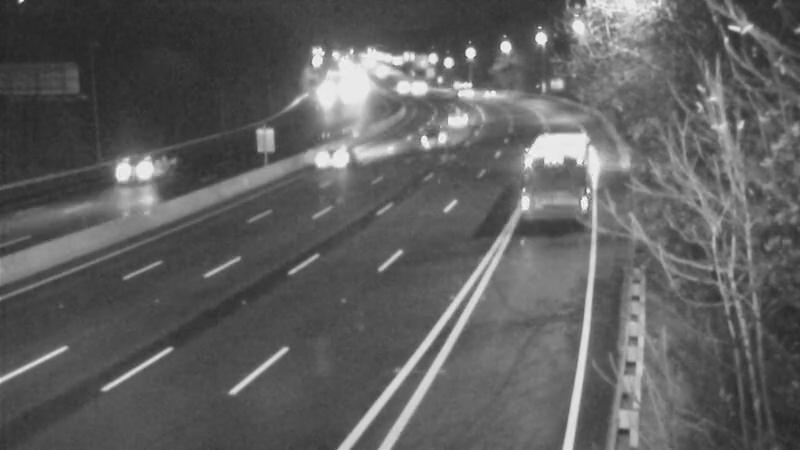vehicle: (506, 130, 586, 210), (101, 132, 181, 212), (436, 59, 486, 109), (376, 61, 426, 111), (394, 63, 444, 113), (460, 67, 510, 117), (432, 92, 482, 142), (407, 108, 457, 158)
